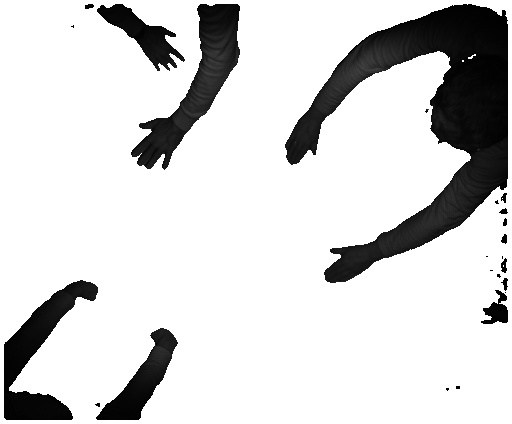fist: (151, 328, 183, 352), (76, 280, 103, 306)
hand: (128, 119, 181, 175), (135, 26, 189, 71), (320, 246, 378, 287), (280, 117, 322, 167)
